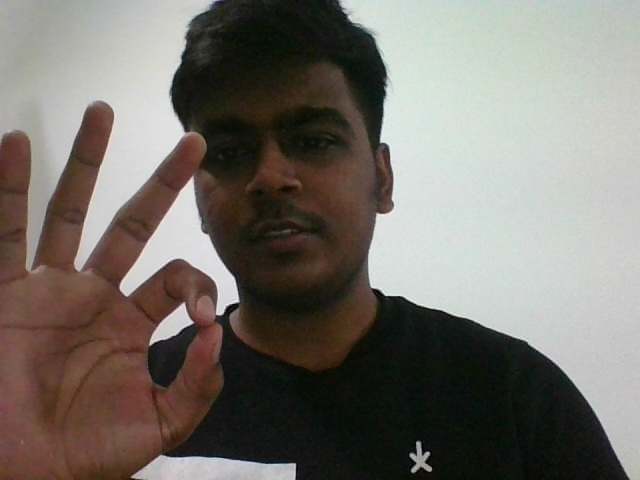ok: (1, 98, 221, 466)
